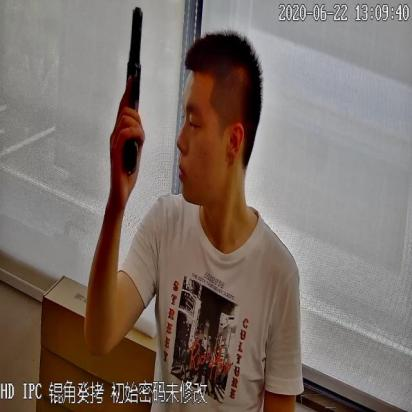Gun: (109, 0, 150, 185)
